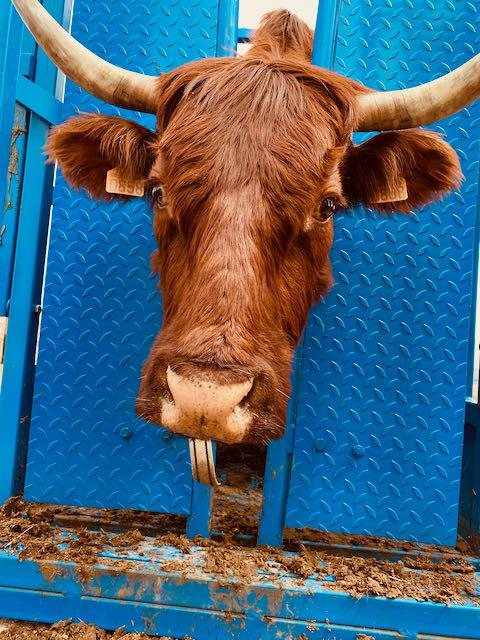muzzles: (139, 337, 280, 450)
